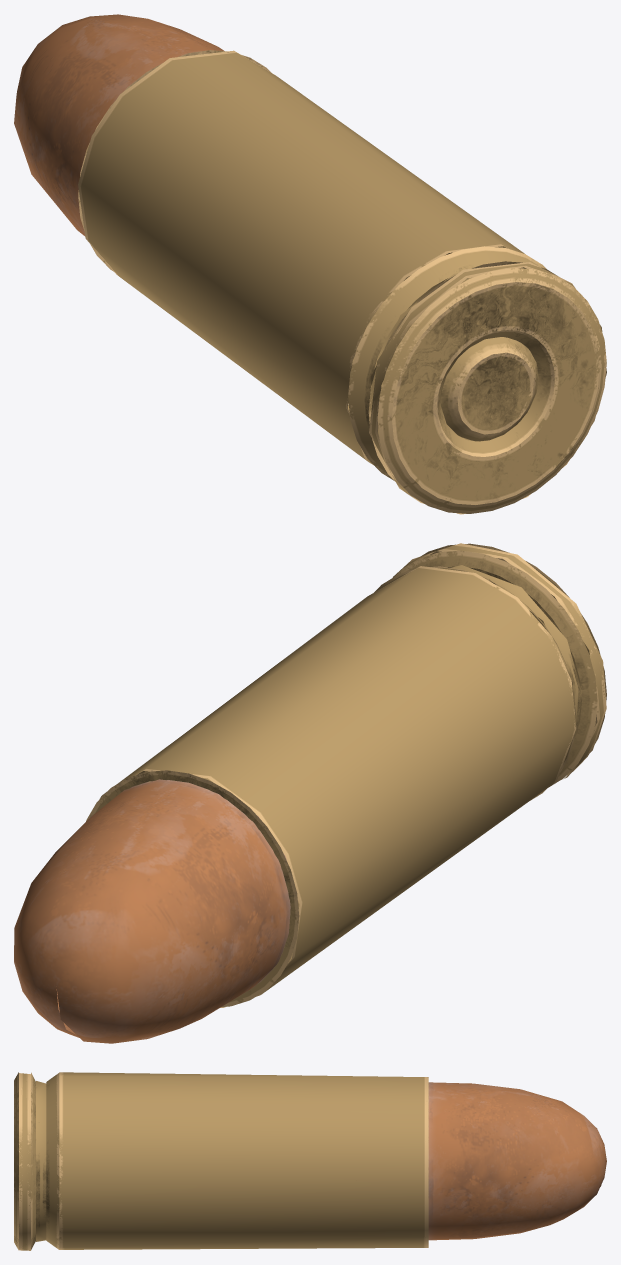
File: bullet.gltf
The picture shows the model from 3 angles, top to bottom: view 1: azimuth 30°, elevation 25°; view 2: azimuth 150°, elevation 25°; view 3: azimuth 270°, elevation 25°; orthographic projection. The views are drawn at different scales.
Visible parts, largest first — view 1: Bullet; view 2: Bullet; view 3: Bullet.
Part boxes in pixels (<box>): Bullet: <box>14,14,606,514</box>; Bullet: <box>14,543,606,1043</box>; Bullet: <box>14,1072,606,1250</box>.
Bounding box in the file's own units: 0.9211 × 0.9242 × 3.05.
Materials: 1 (1 with a texture image).
